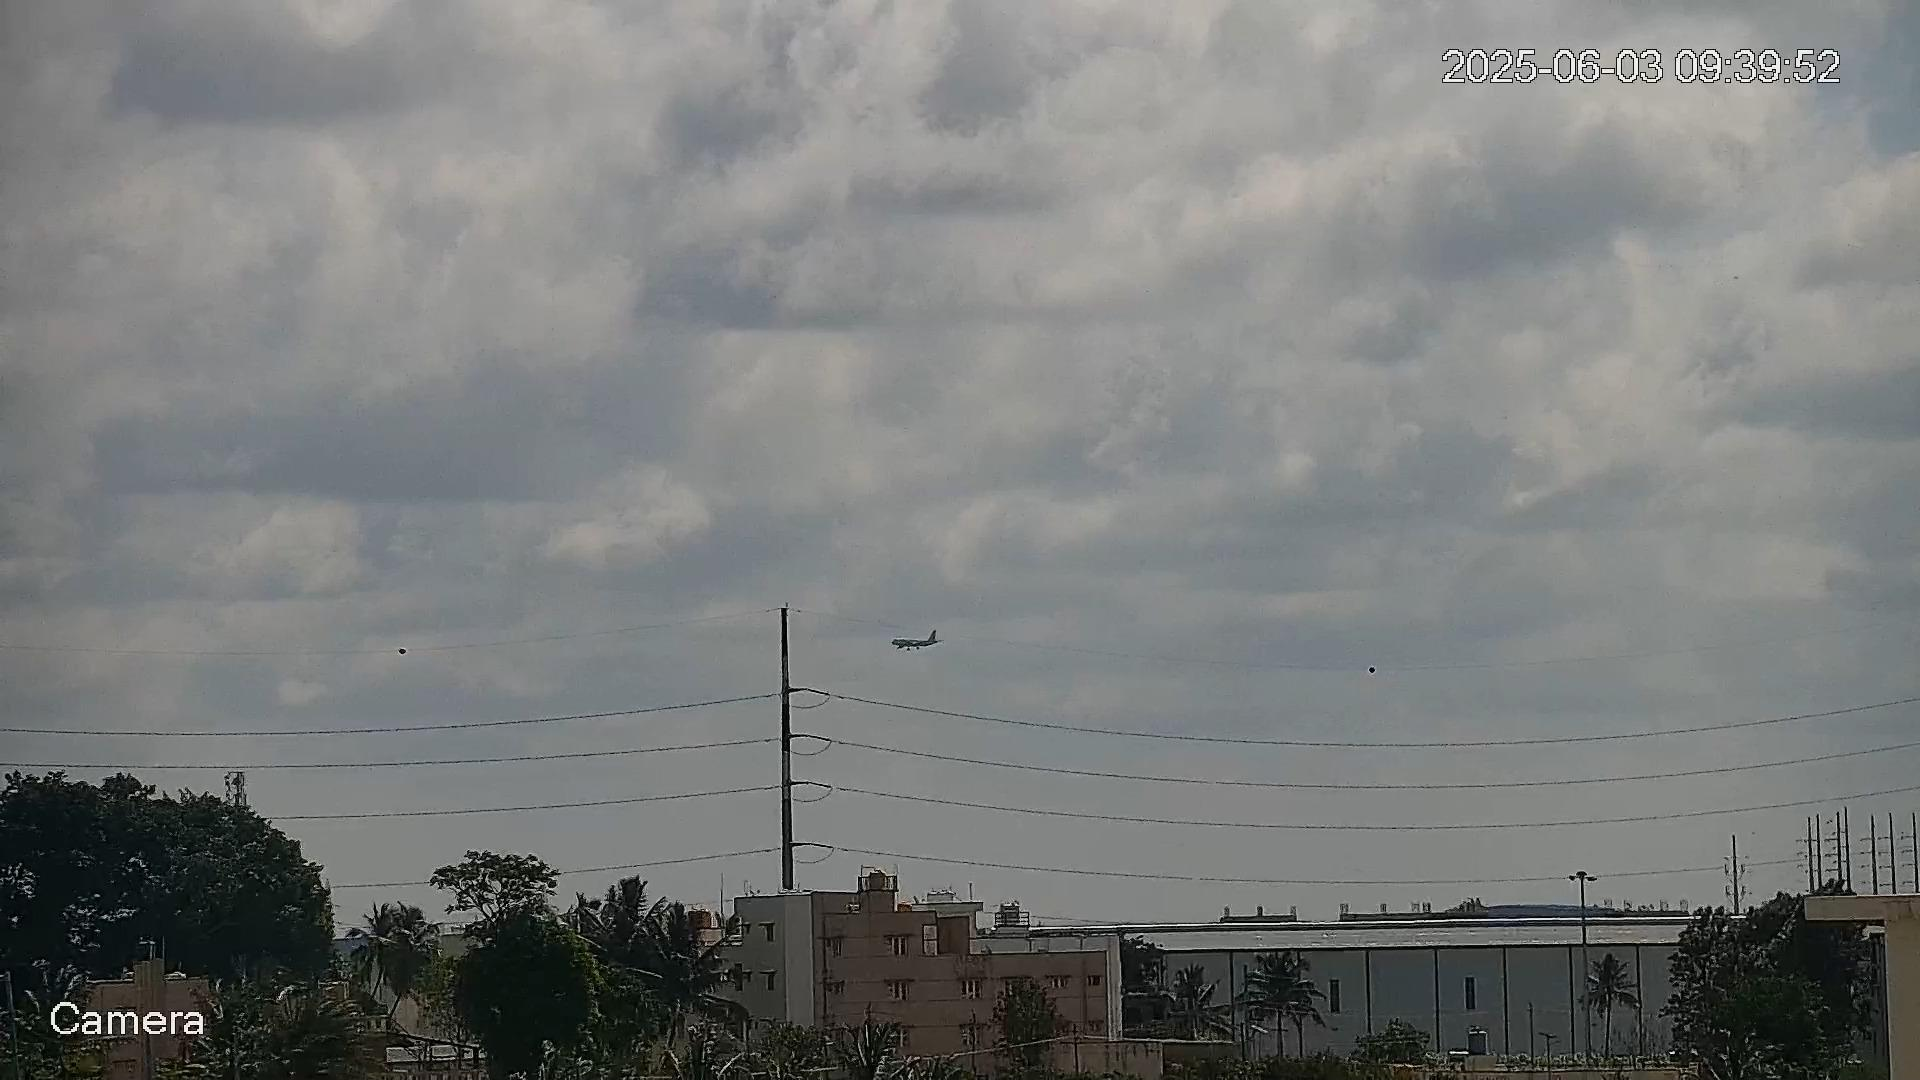Aircraft: (890, 629, 943, 651)
